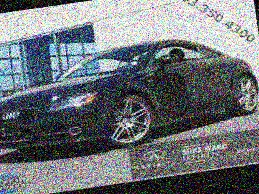car: (0, 23, 259, 176)
